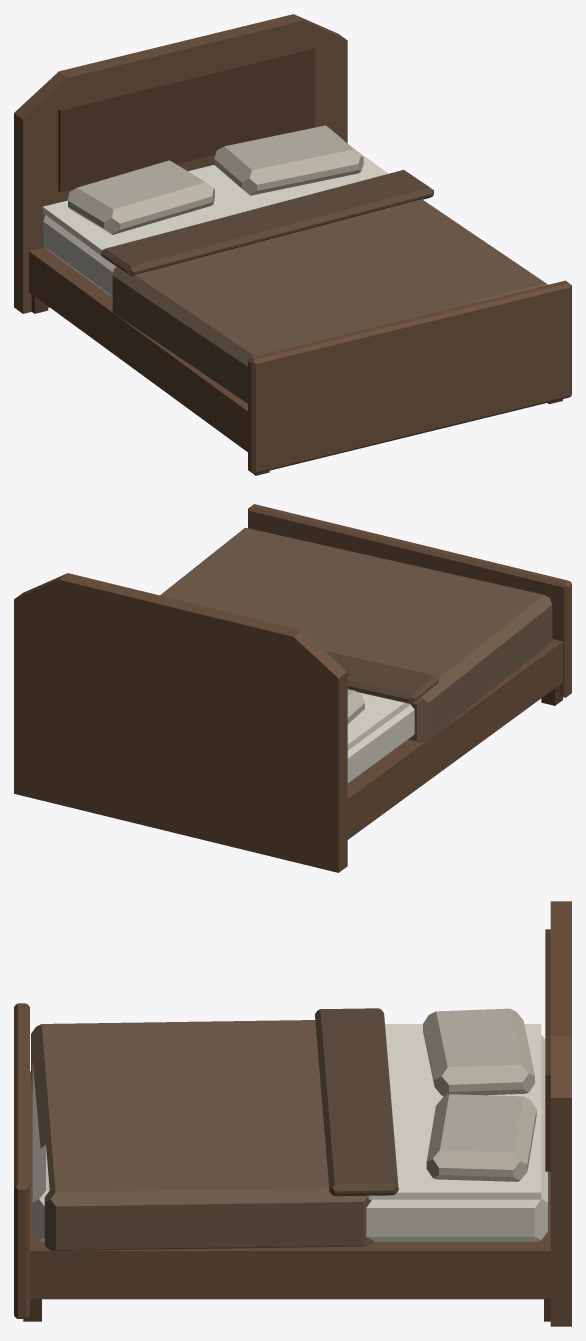
The model's file is lit.glb.
The picture shows the model from 3 angles, top to bottom: view 1: azimuth 30°, elevation 25°; view 2: azimuth 150°, elevation 25°; view 3: azimuth 270°, elevation 25°; orthographic projection. The views are drawn at different scales.
Parts seen in each view (by area): view 1: blanket, footboard, panel, headboard, frame, fold, pillow_r, pillow_l, sheet, mattress; view 2: headboard, blanket, frame, footboard, fold, mattress, sheet; view 3: blanket, frame, fold, sheet, mattress, headboard, pillow_r, pillow_l, footboard, panel.
Boxes of the visible parts, left/top/right/bottom form: blanket: left=112, top=199, right=547, bottom=403; footboard: left=248, top=280, right=571, bottom=474; panel: left=58, top=47, right=314, bottom=192; headboard: left=14, top=14, right=347, bottom=313; frame: left=29, top=247, right=247, bottom=451; fold: left=101, top=170, right=433, bottom=276; pillow_r: left=214, top=125, right=363, bottom=195; pillow_l: left=68, top=160, right=214, bottom=234; sheet: left=42, top=145, right=388, bottom=266; mattress: left=43, top=215, right=116, bottom=296; headboard: left=14, top=573, right=347, bottom=872; blanket: left=160, top=527, right=552, bottom=742; frame: left=347, top=639, right=562, bottom=839; footboard: left=248, top=504, right=571, bottom=697; fold: left=325, top=651, right=438, bottom=704; mattress: left=347, top=704, right=414, bottom=783; sheet: left=347, top=692, right=410, bottom=750; blanket: left=31, top=1020, right=373, bottom=1250; frame: left=30, top=1071, right=550, bottom=1299; fold: left=315, top=1008, right=398, bottom=1196; sheet: left=368, top=1024, right=541, bottom=1199; mattress: left=32, top=1034, right=547, bottom=1241; headboard: left=550, top=901, right=571, bottom=1326; pillow_r: left=426, top=1094, right=536, bottom=1181; pillow_l: left=423, top=1008, right=534, bottom=1096; footboard: left=14, top=1003, right=29, bottom=1318; panel: left=545, top=929, right=550, bottom=1171.
Size of the model in its own units: 1.66 by 1.1 by 2.1.
7 materials, 7 textured.
